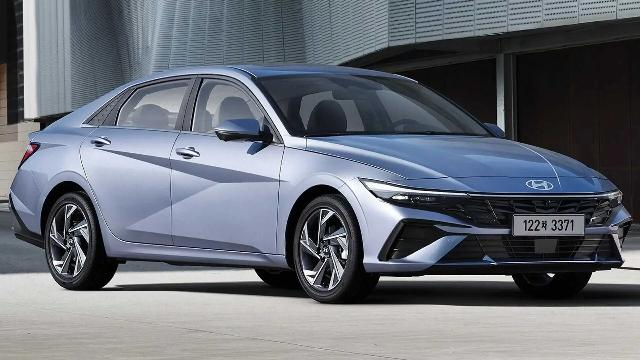hyundai: (0, 63, 640, 303)
